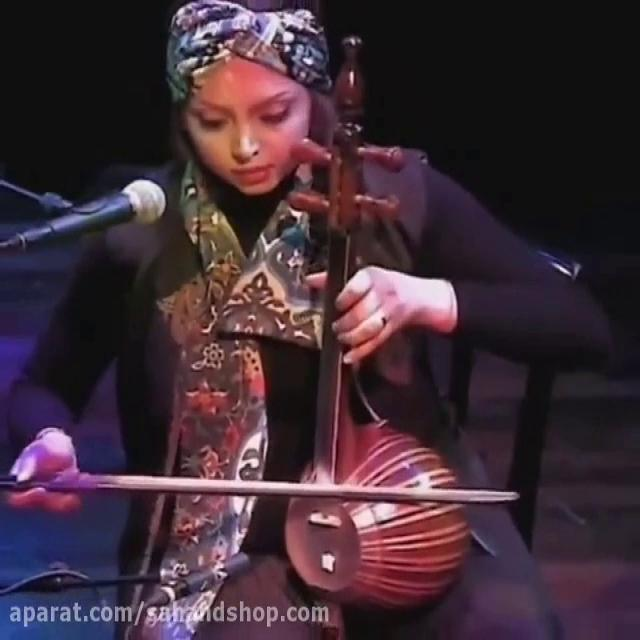Kamanche: (277, 27, 483, 626)
